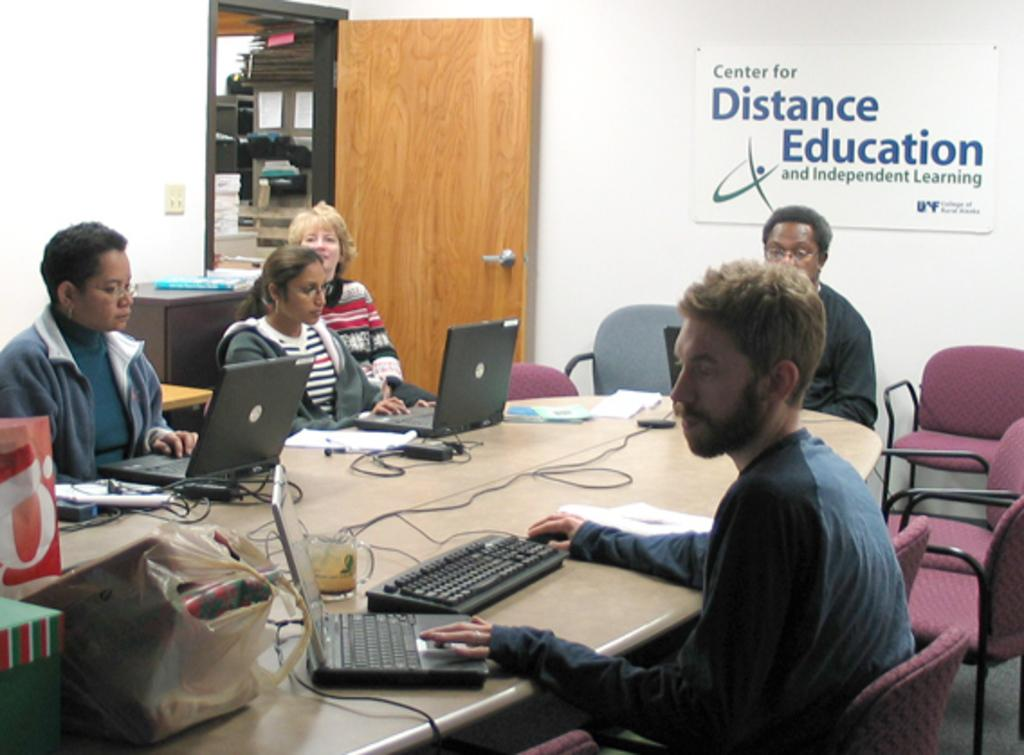Computer-keyboard: (368, 528, 570, 616), (339, 607, 422, 672), (388, 404, 438, 432), (141, 454, 187, 476)
